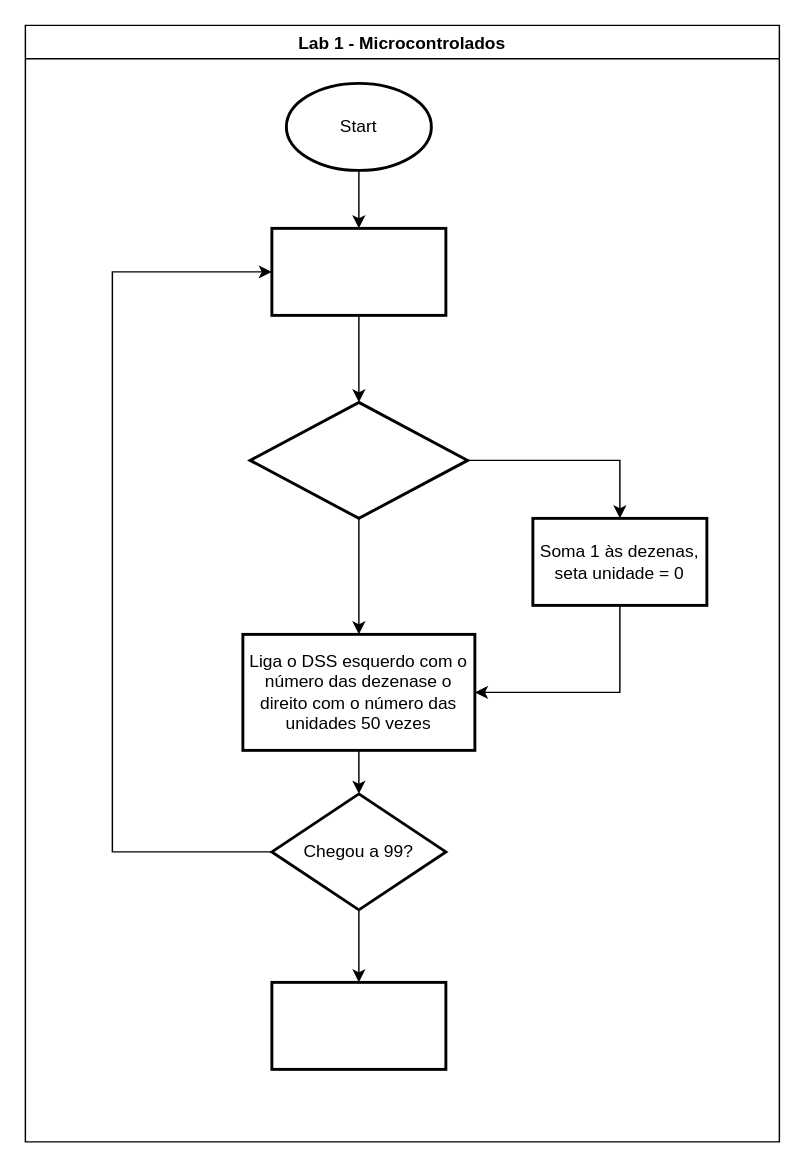
Image size: 805x1167. Some labels were removed from this diagram. The centre of each missing label's shape, as x and y in pixels:
Fim: point 358,1025
Soma 1 à unidade: point 358,271
Unidade vale 10?: point 358,459
